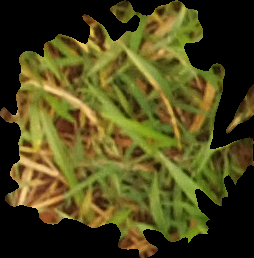grass: (1, 1, 251, 256)
